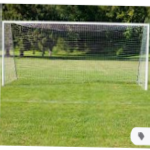goals: (1, 18, 150, 92)
